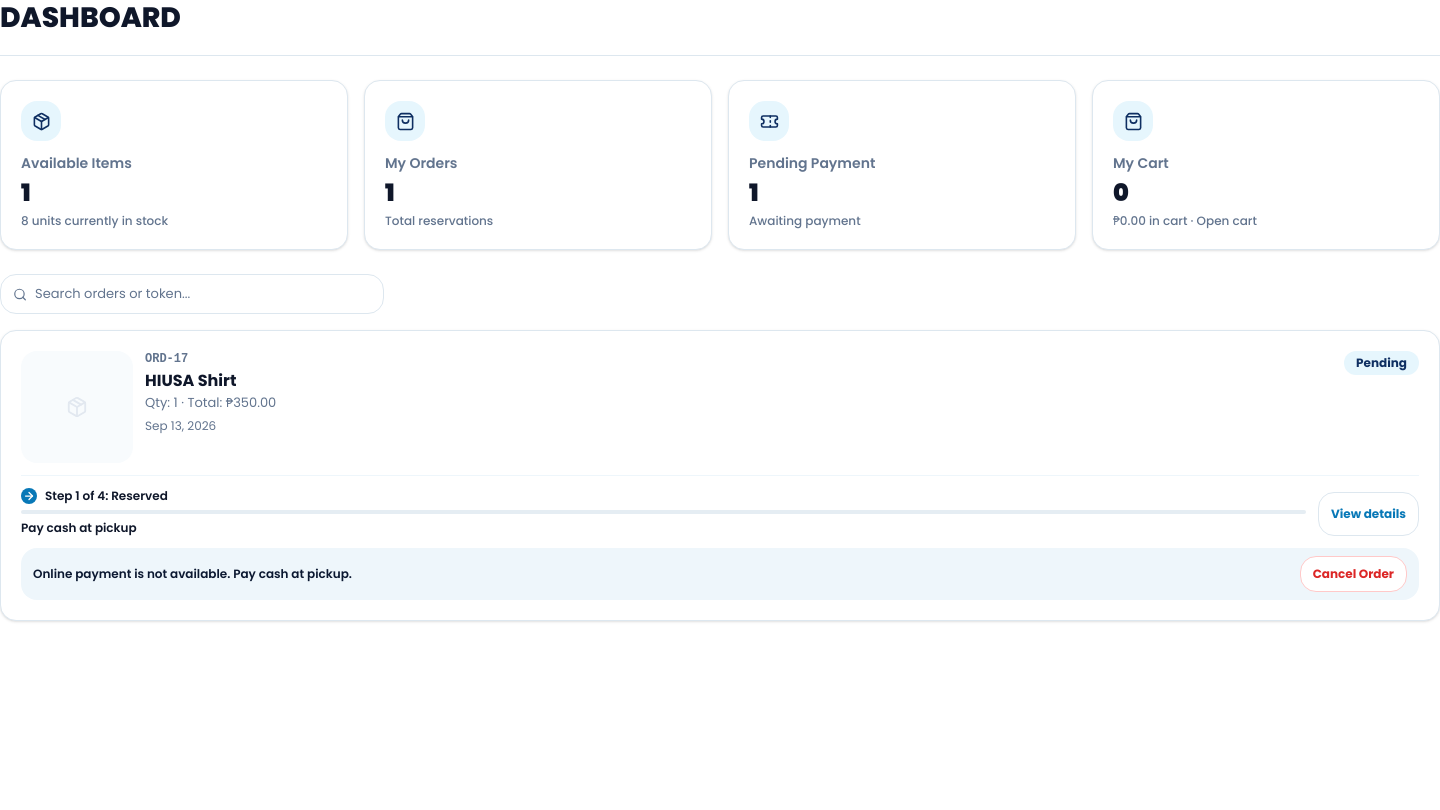
MerchandisePage buyer experience › lets the buyer confirm cancellation of an eligible pending order
What coordinates should you click on to do the following:
click the button "Cancel Order"
I would click on:
 (1353, 574)
Its box is left=1300, top=556, right=1407, bottom=592.
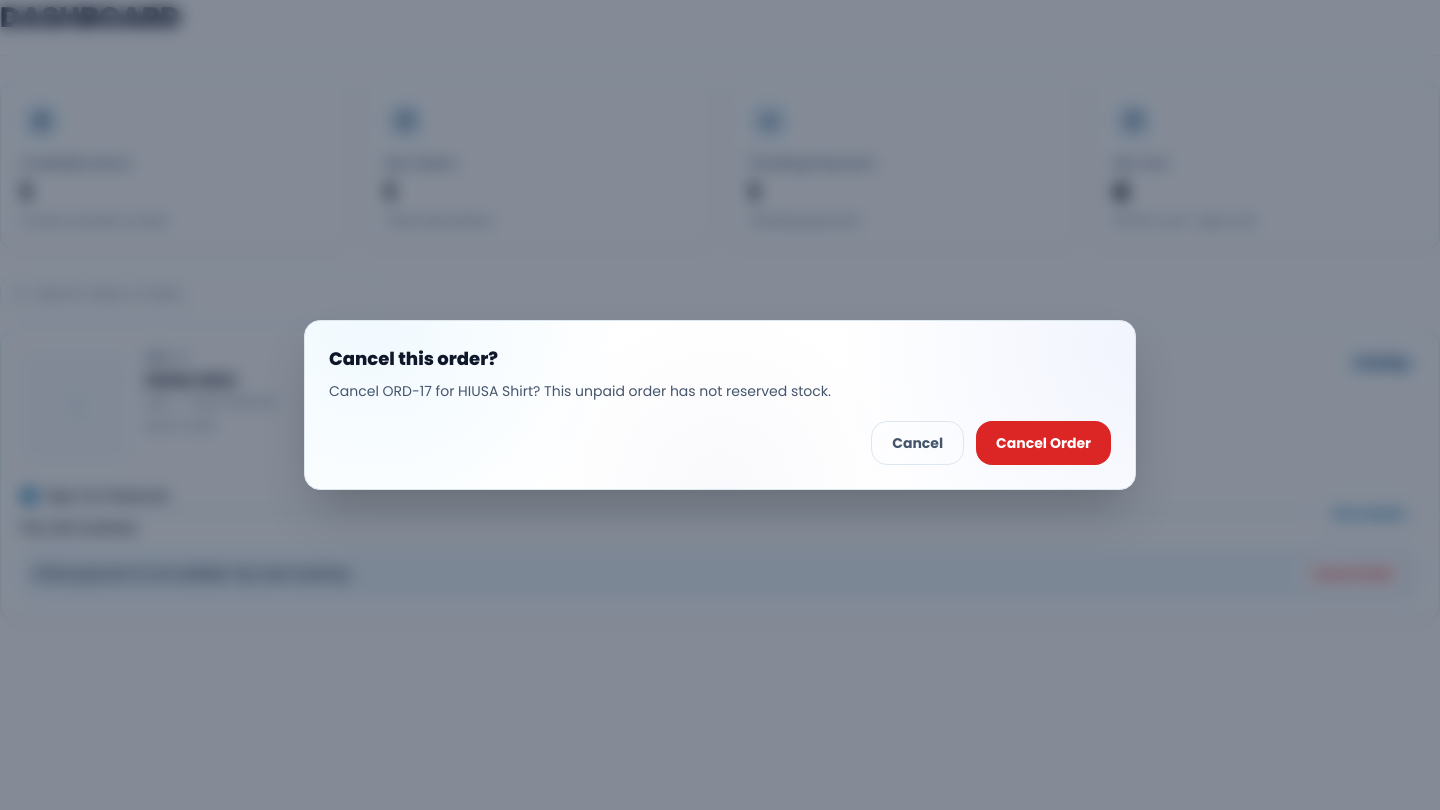
Expected: the heading "Cancel this order?" is shown, left=329, top=346, right=498, bottom=371
What coordinates should you click on to do the following:
click the button "Cancel Order"
I would click on:
 (1044, 443)
Its box is left=976, top=421, right=1111, bottom=465.
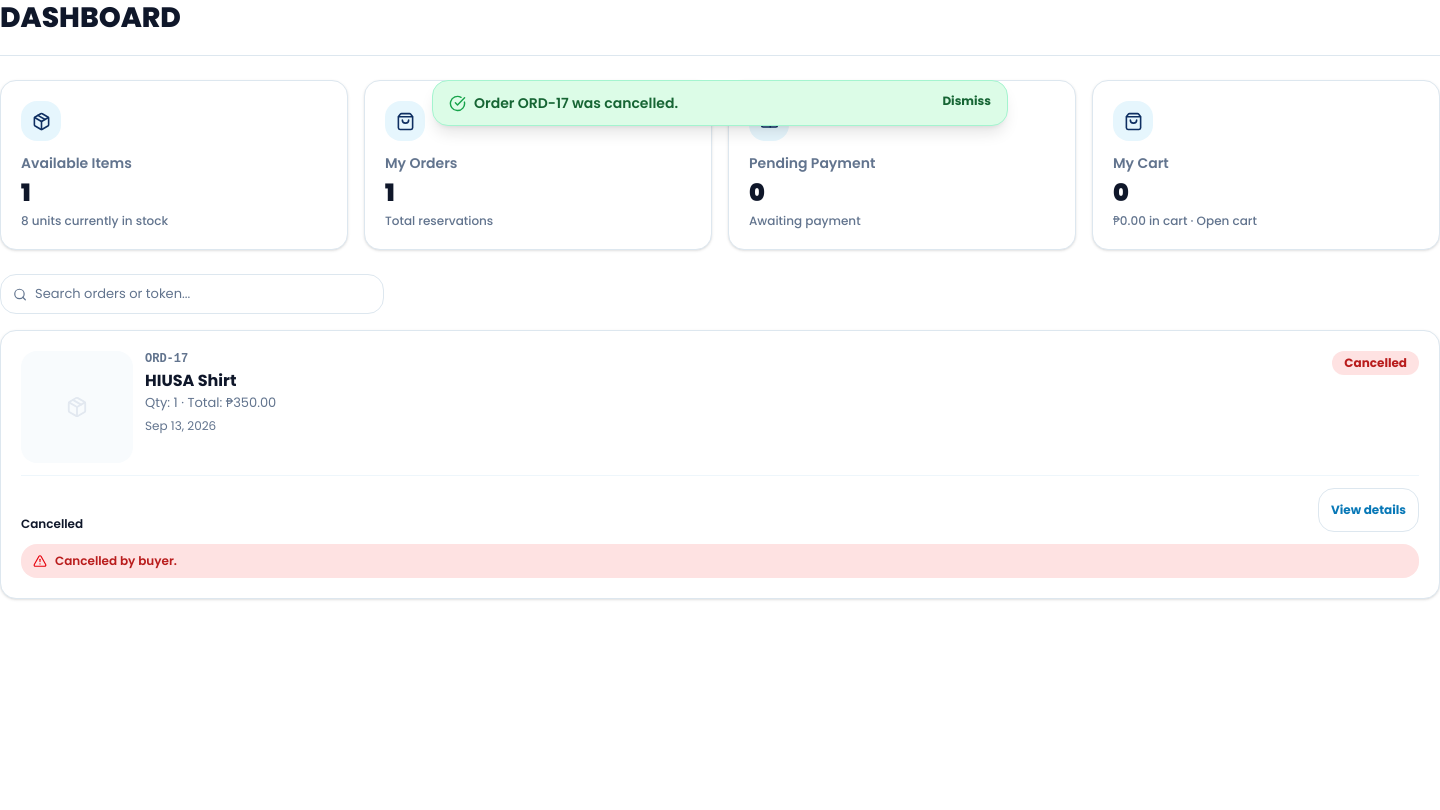
Expected: the text "Cancelled by buyer." is shown, left=55, top=552, right=177, bottom=570
